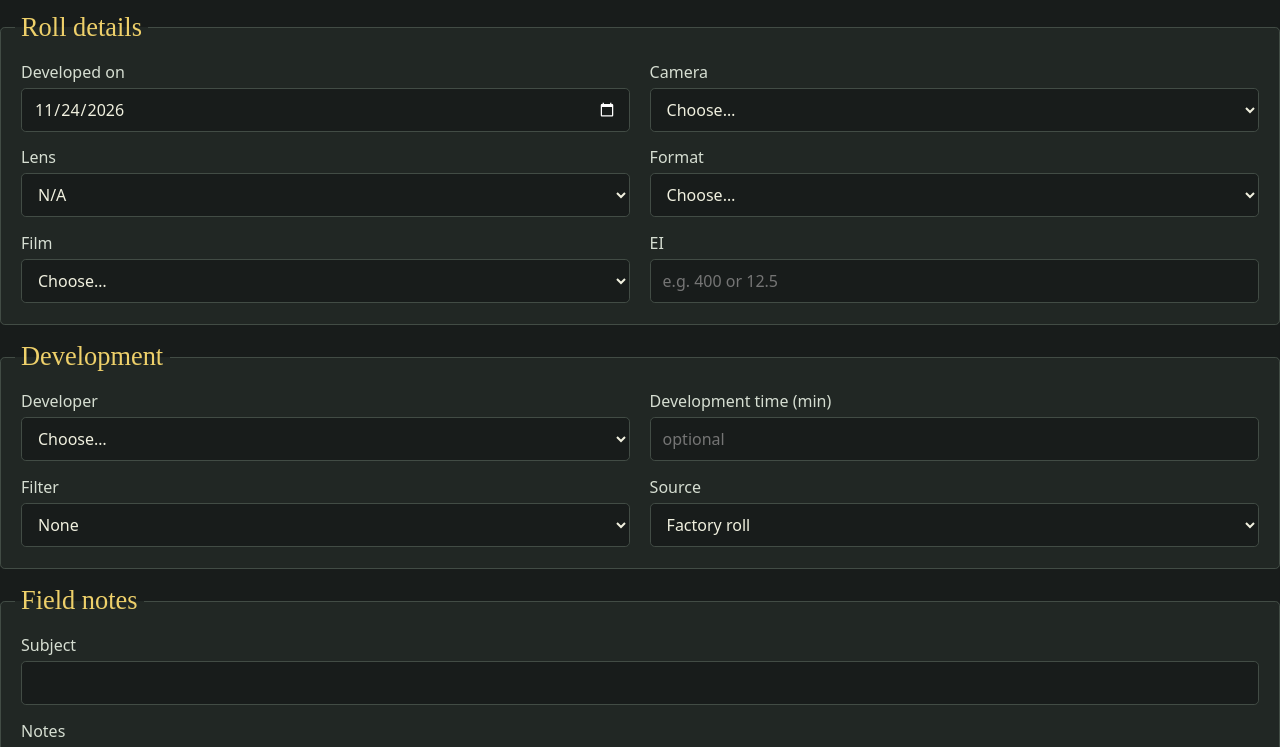
Test: picking a camera fills lens and format from its last roll
Step 1. Select "Nikon FM2" in the dropdown labelled "Camera" → (954,110), box [650,88,1259,132]
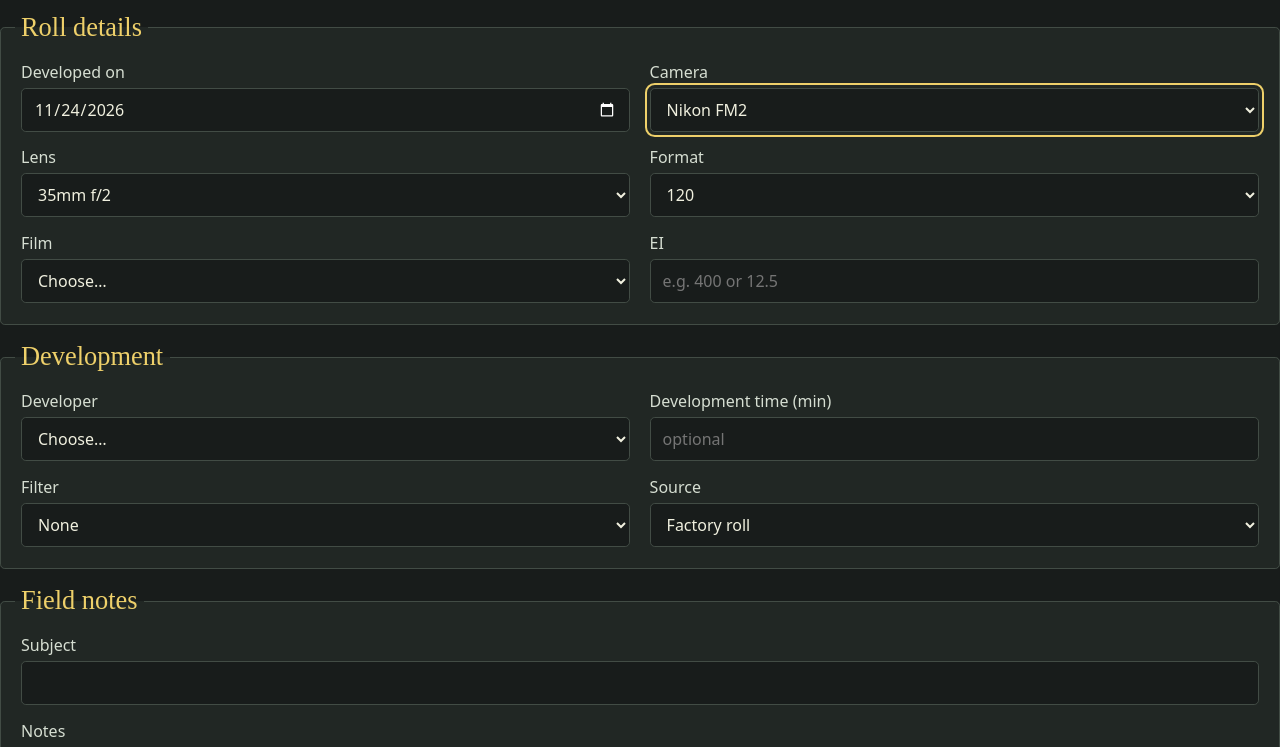
Check: the dropdown labelled "Lens" shows "35mm f/2", box [21,173,630,217]
Check: the dropdown labelled "Format" shows "120", box [650,173,1259,217]
